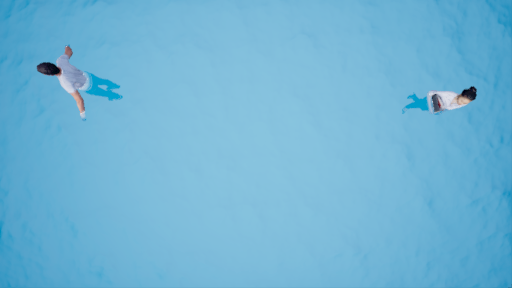person: (34, 42, 130, 121), (396, 82, 480, 120)
